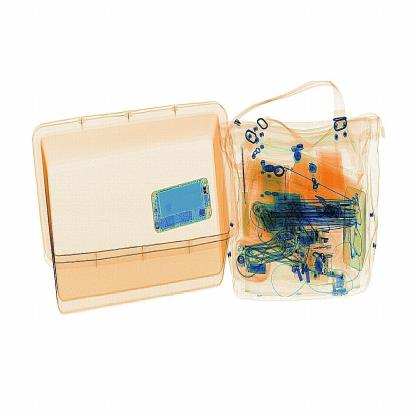wrench: (234, 140, 254, 244)
